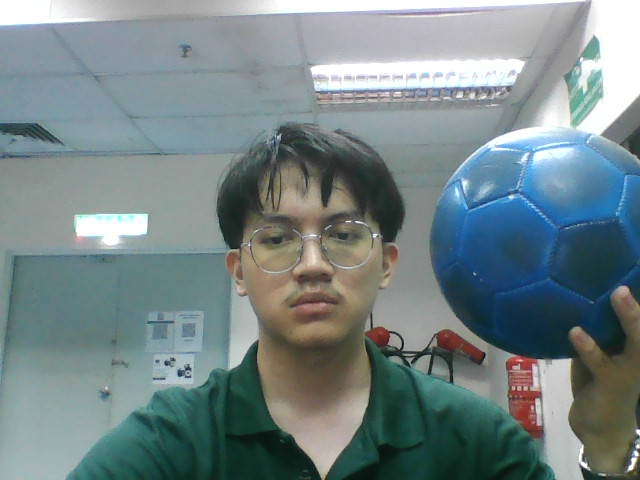Blue: (430, 127, 640, 360)
